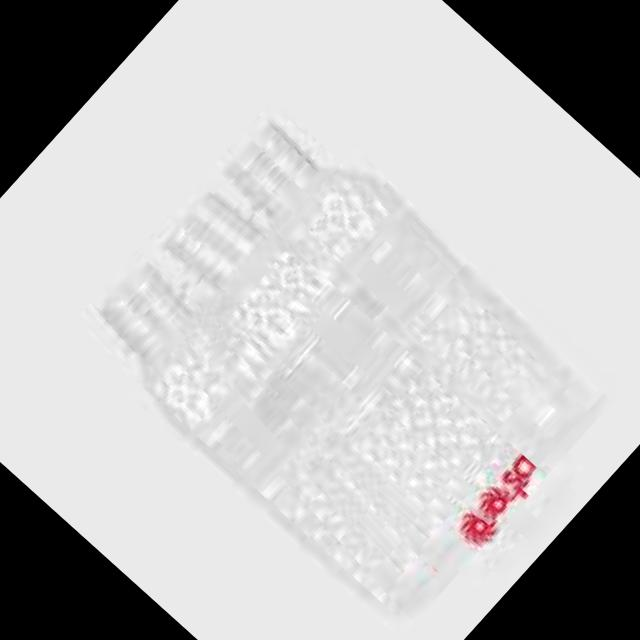plastic bottle: (210, 65, 633, 466), (146, 164, 552, 546), (69, 242, 468, 616)
